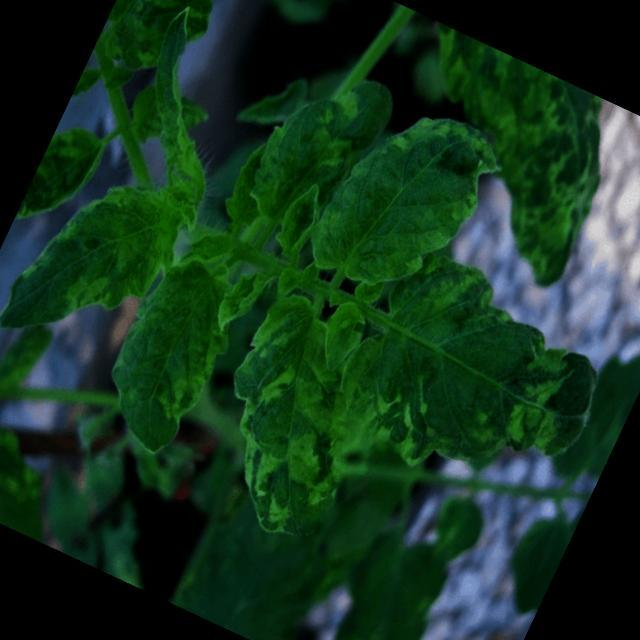Tomato mosaic virus leaf: (311, 230, 640, 539), (350, 21, 638, 299), (177, 276, 404, 552), (294, 78, 515, 322), (0, 145, 201, 387), (80, 242, 258, 469), (232, 36, 410, 254), (91, 0, 255, 95)
